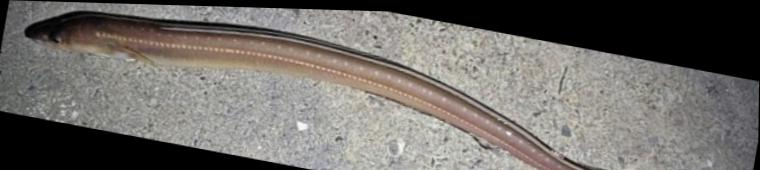fish: (25, 10, 727, 170)
